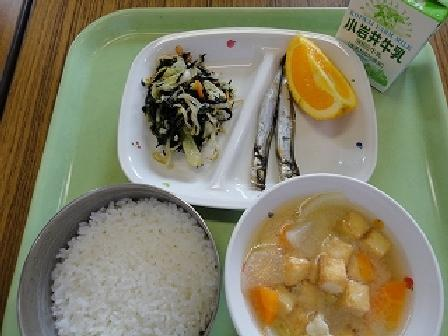Citrus: (282, 27, 359, 121)
Fish: (254, 43, 301, 194)
Milk: (332, 0, 447, 75)
Rice: (33, 200, 220, 331)
Salad: (140, 44, 237, 168)
Soups: (225, 174, 443, 336)
